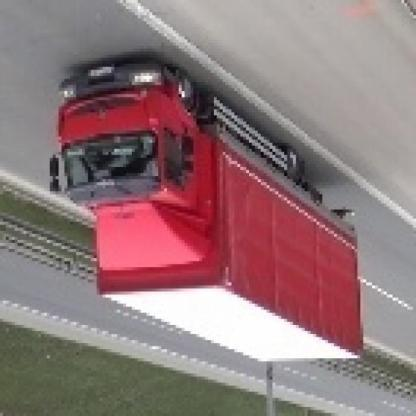truck: (48, 62, 358, 365)
